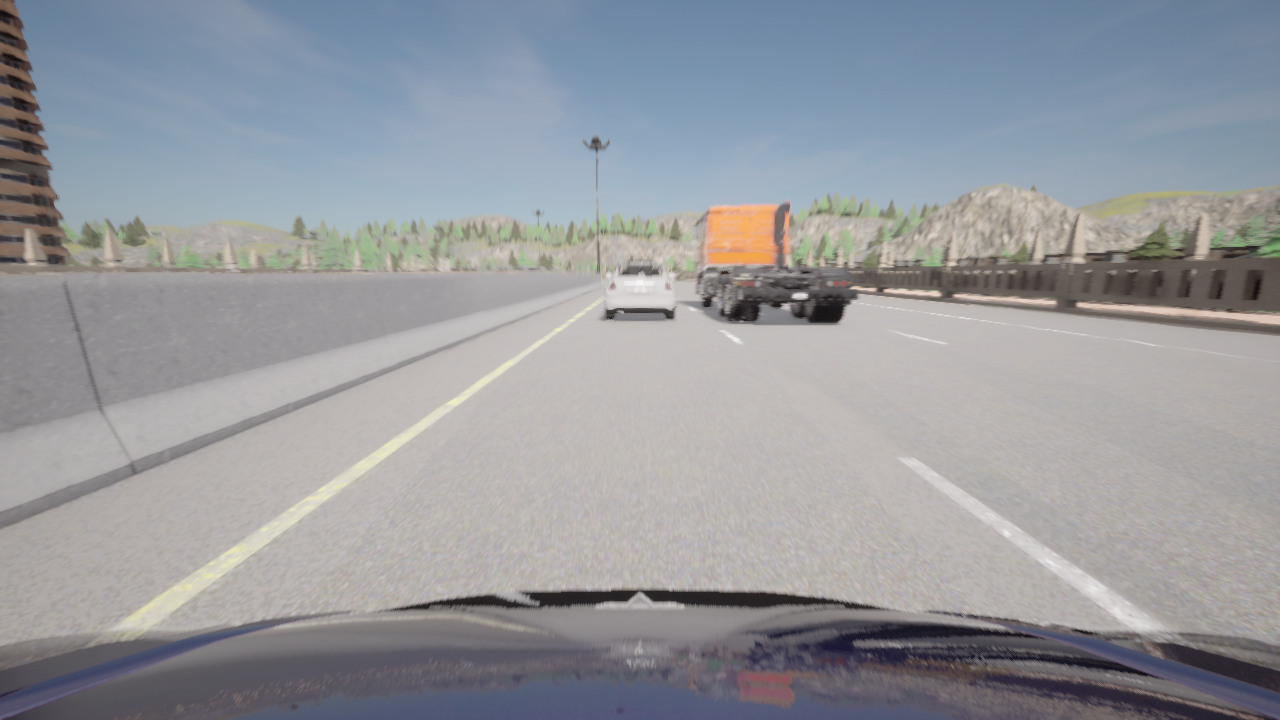cyclist: (0, 588, 1279, 719), (690, 202, 857, 322), (603, 263, 676, 320), (629, 261, 650, 262)
